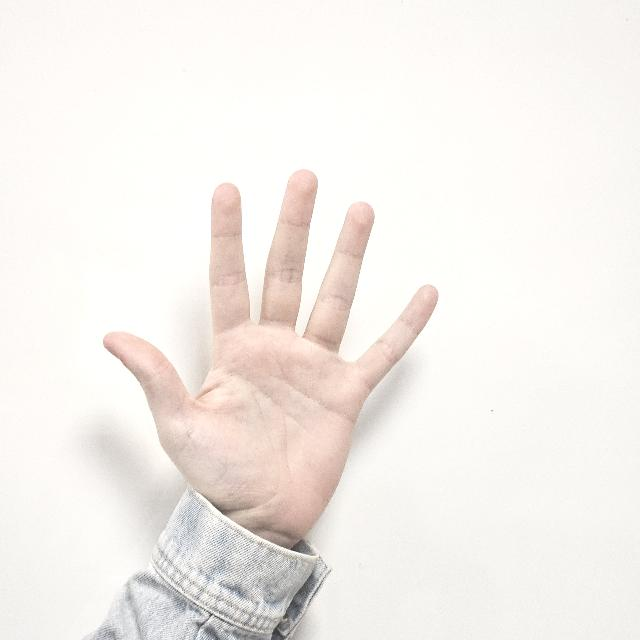X: (99, 170, 444, 570)
